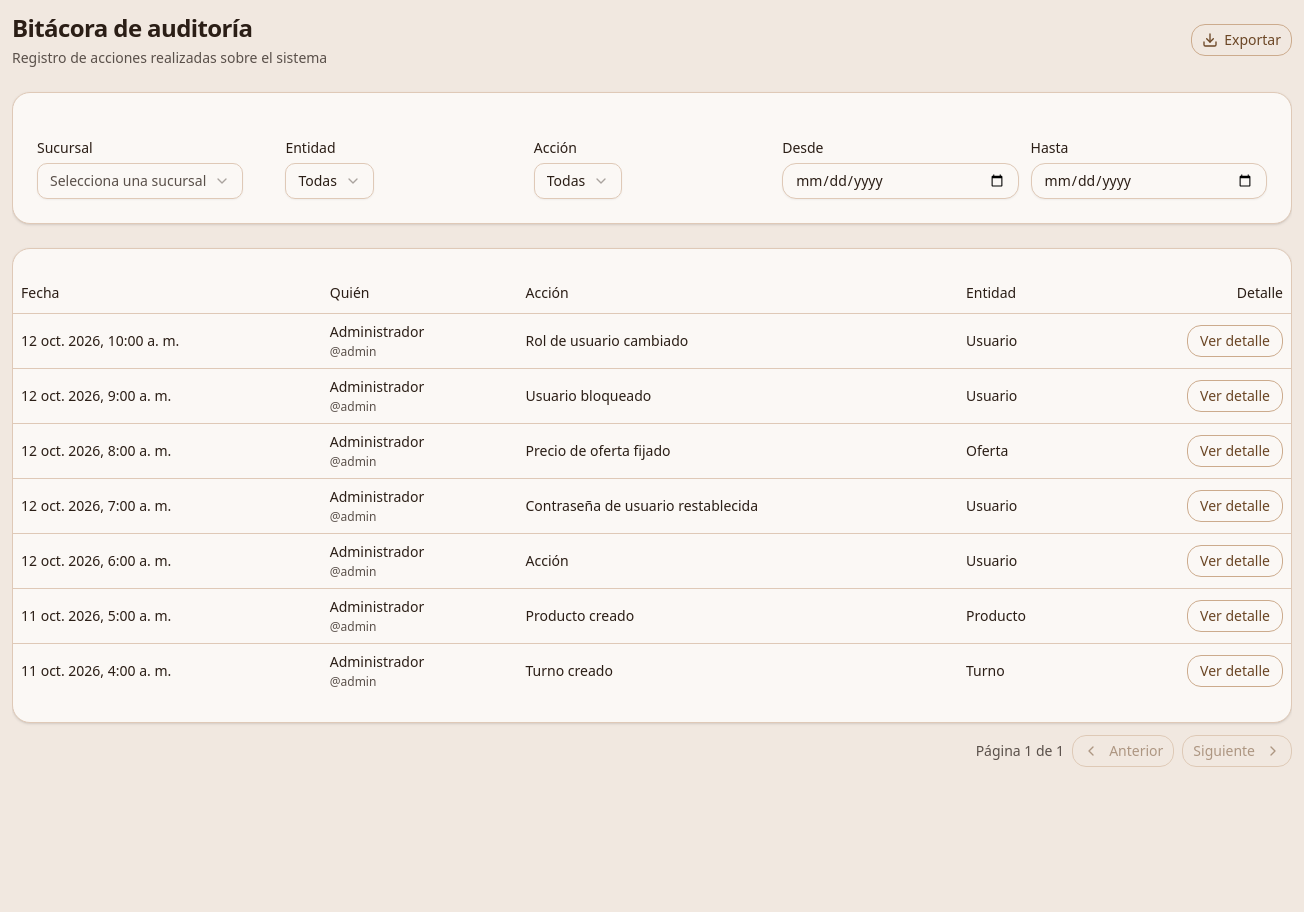
Scenario: Bitácora de auditoría › filtra por acción
Expected: the text "Rol de usuario cambiado" is shown, left=518, top=313, right=958, bottom=368
Click the dropdown named "Acción" at (578, 181), box left=534, top=163, right=622, bottom=199
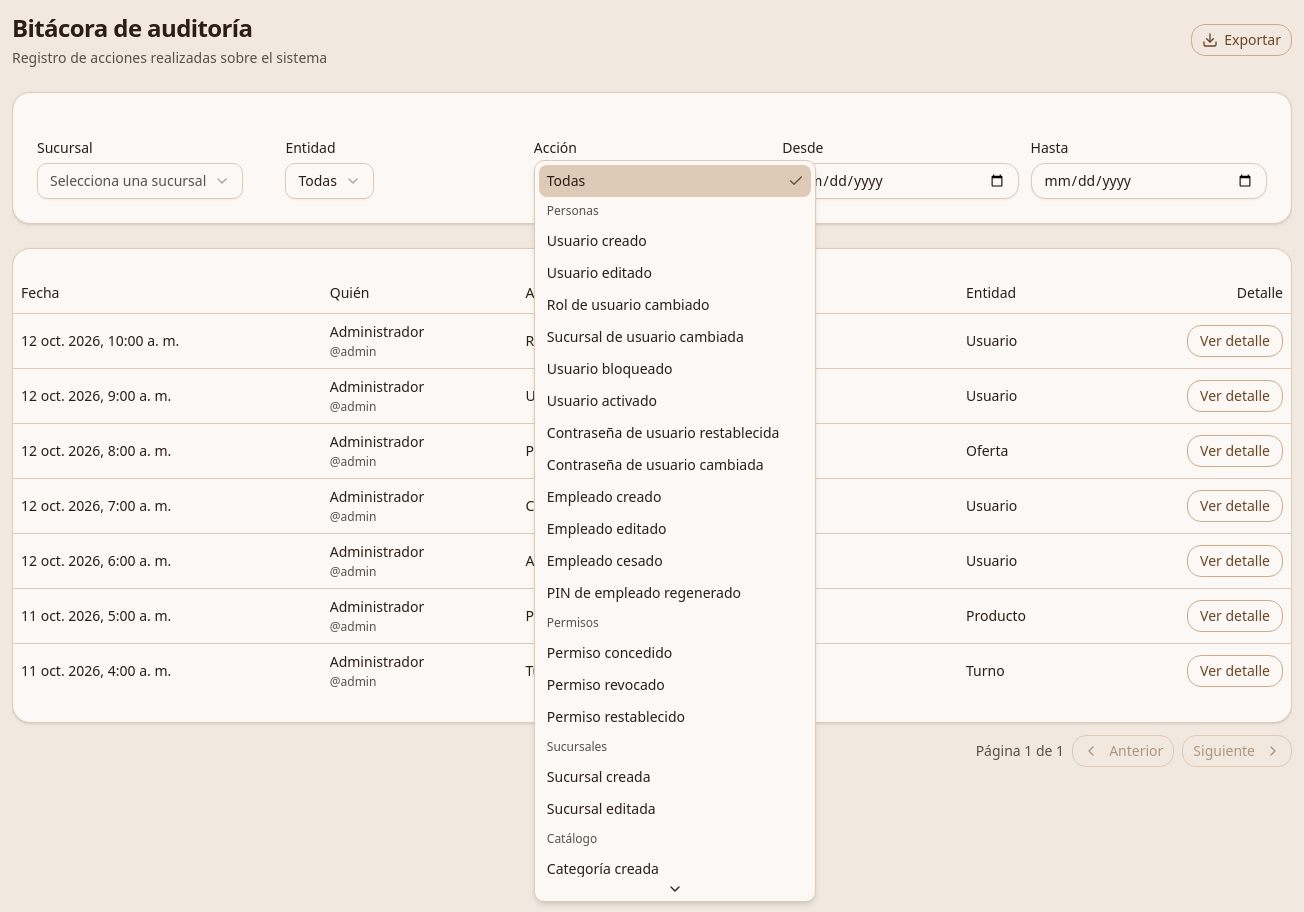
Click the option "Usuario bloqueado" at (610, 368), box left=547, top=359, right=672, bottom=378
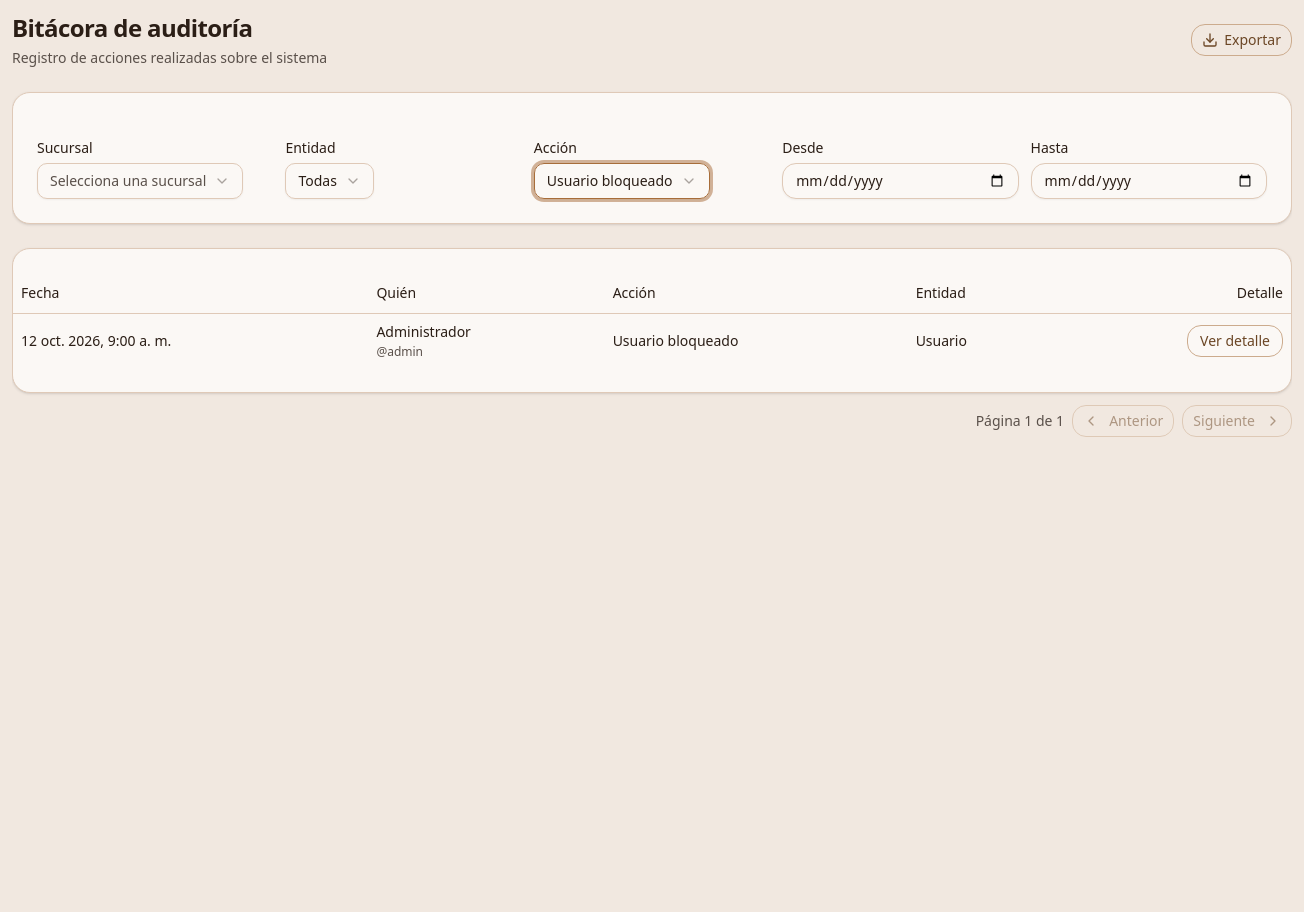
Expected: the text "Rol de usuario cambiado" is gone
Expected: the text "Usuario bloqueado" is shown, left=547, top=171, right=672, bottom=191
